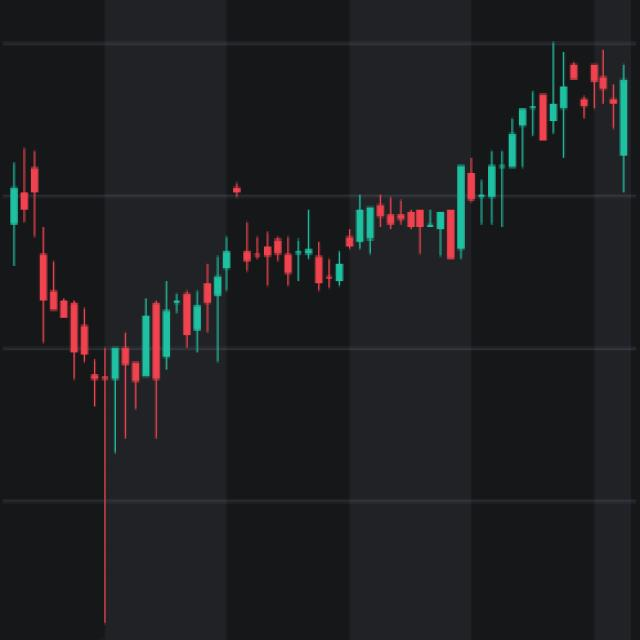Ascending-Triangle: (0, 187, 530, 553)
